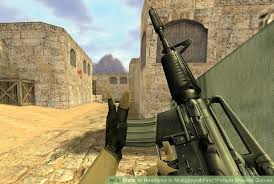gun: (120, 4, 272, 174)
